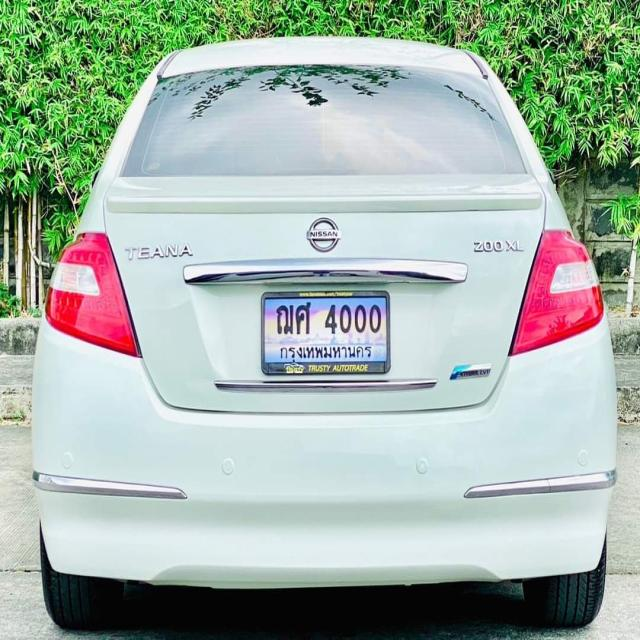license_plate: (262, 290, 393, 378)
